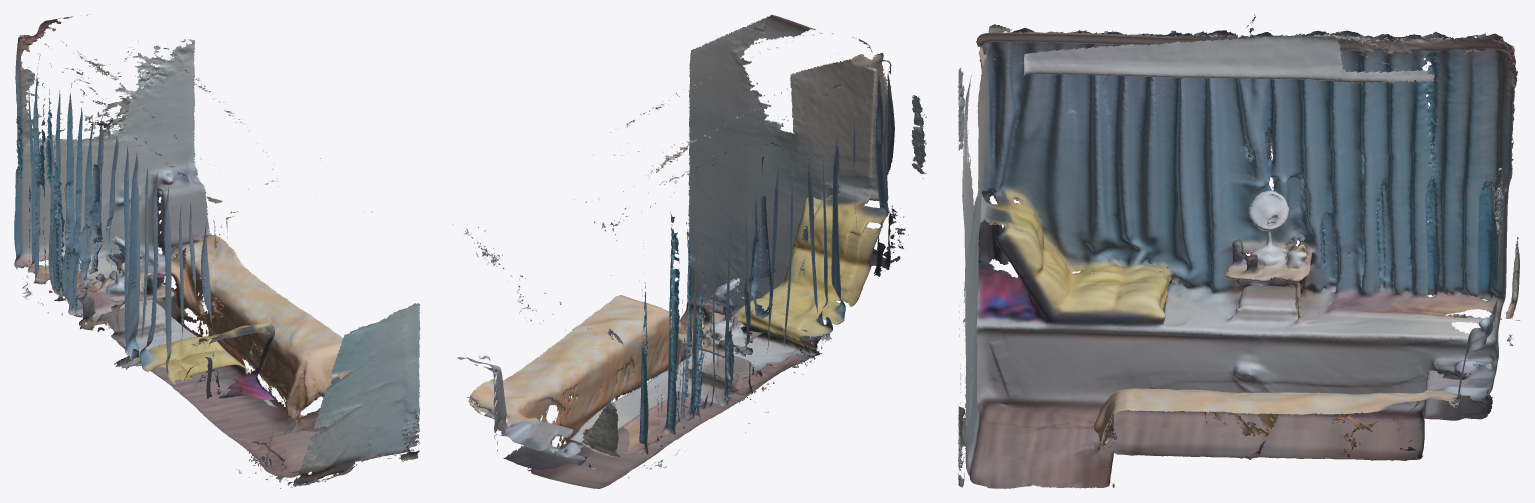
Rendered from apartment-detail-0-bff692d7cff2.glb.
3 views of the same model, side by side, from view 1: azimuth 30°, elevation 25°; view 2: azimuth 150°, elevation 25°; view 3: azimuth 270°, elevation 25° (orthographic). The views are drawn at different scales.
Size of the model in its own units: 1.86 by 3.07 by 3.42.
